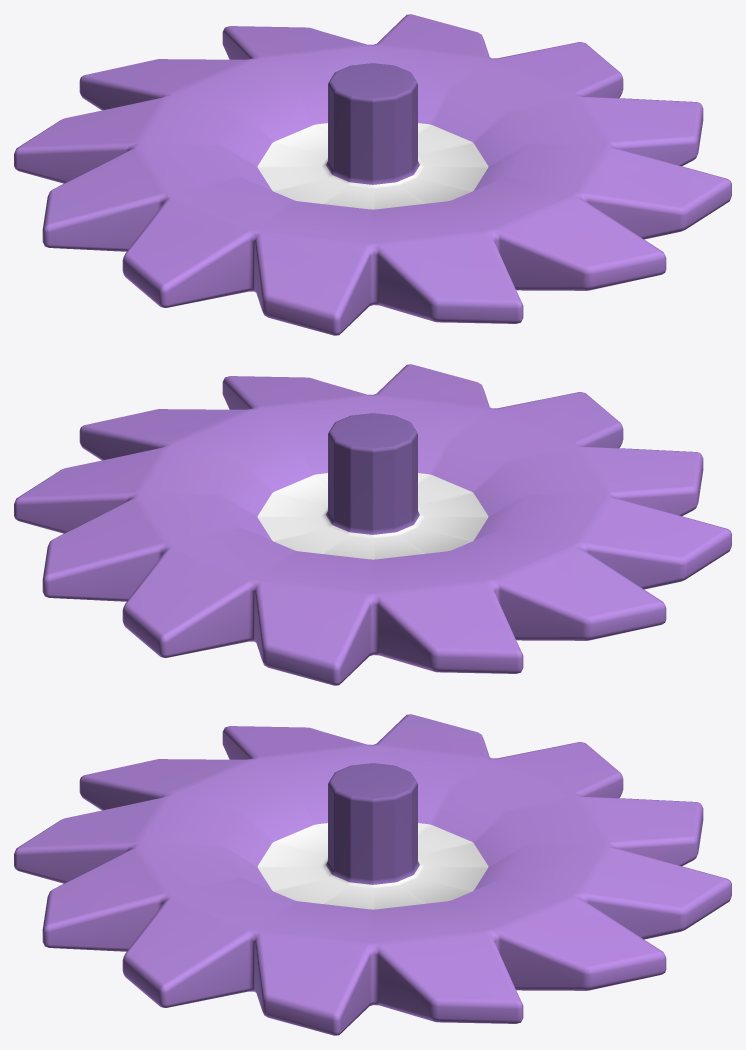
The model's file is Saw2.fbx.
The picture shows the model from 3 angles, top to bottom: view 1: azimuth 30°, elevation 25°; view 2: azimuth 150°, elevation 25°; view 3: azimuth 270°, elevation 25°; orthographic projection.
Visible parts, largest first — view 1: Saw2; view 2: Saw2; view 3: Saw2.
Part boxes in pixels (<box>): Saw2: <box>14,14,731,335</box>; Saw2: <box>14,364,731,685</box>; Saw2: <box>14,714,731,1035</box>.
Size of the model in its own units: 26.6 by 7.71 by 26.6.
1 material, 1 textured.
